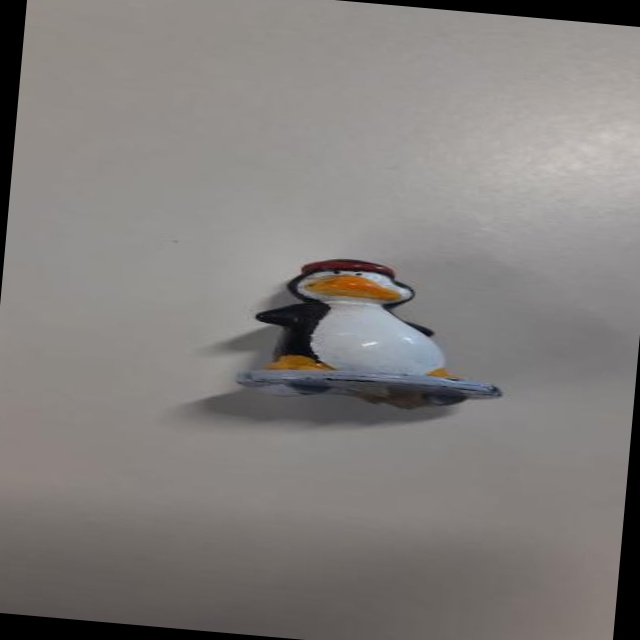Penguin: (234, 244, 502, 417)
